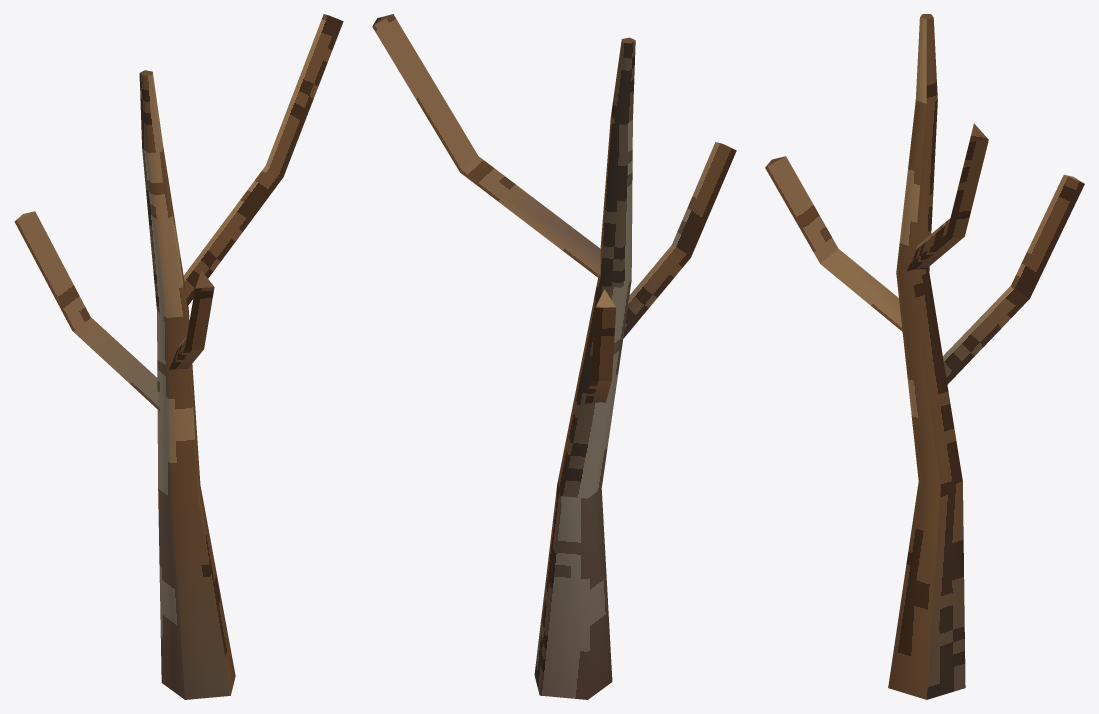
File: wland.dead_tree__small.glb
3 views of the same model, side by side, from view 1: azimuth 30°, elevation 25°; view 2: azimuth 150°, elevation 25°; view 3: azimuth 270°, elevation 25° (orthographic). The views are drawn at different scales.
Parts seen in each view (by area): view 1: kit_trunk, kit_branches; view 2: kit_trunk, kit_branches; view 3: kit_trunk, kit_branches.
Boxes of the visible parts, <box> form: kit_trunk: <box>139,70,235,699</box>; kit_branches: <box>14,14,343,411</box>; kit_trunk: <box>534,37,635,699</box>; kit_branches: <box>372,14,736,403</box>; kit_trunk: <box>888,14,965,699</box>; kit_branches: <box>765,123,1084,384</box>.
Size of the model in its own units: 1.17 by 2.52 by 1.14.
Materials: 1 (1 with a texture image).
